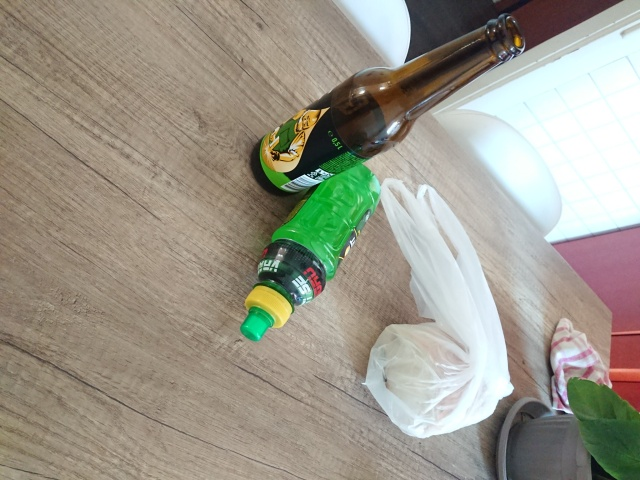Vindi Iso Sport Lemon-Grapefruit 500mL: (236, 150, 385, 344)
